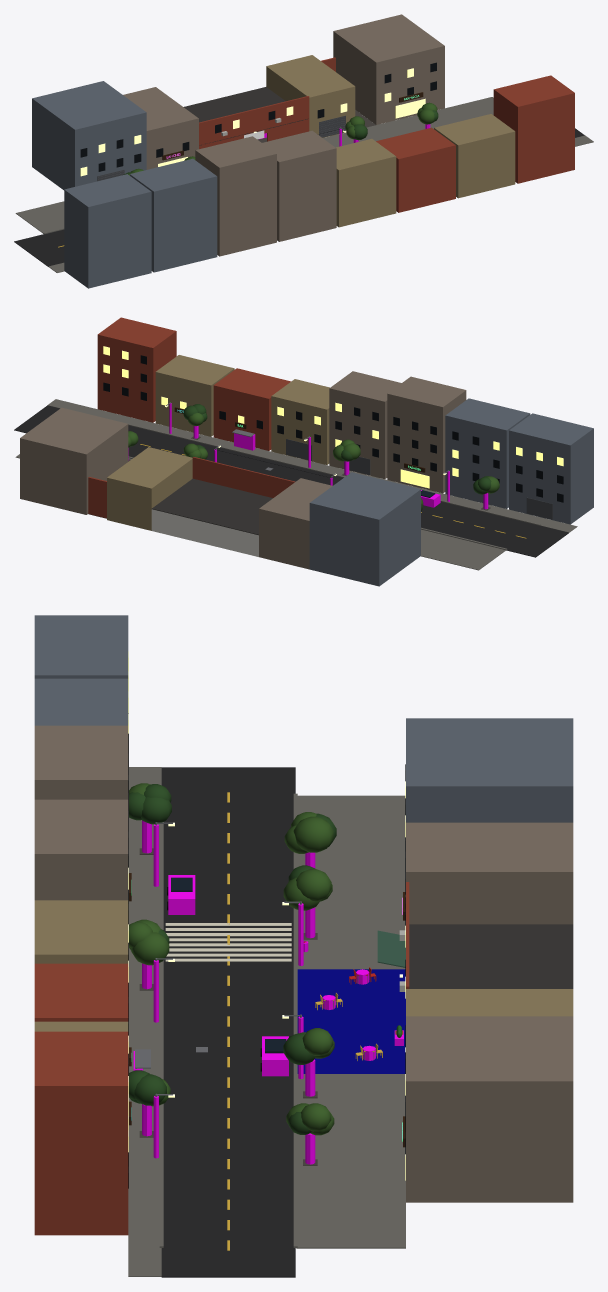
The model's file is suvaco.glb.
3 views of the same model, one above another, from view 1: azimuth 30°, elevation 25°; view 2: azimuth 150°, elevation 25°; view 3: azimuth 270°, elevation 25° (orthographic). The views are drawn at different scales.
Parts seen in each view (by area): view 1: OCC_nb_l2, OCC_bld0, OCC_nb_r2, OCC_bld1, OCC_bld2, OCC_bld7, OCC_bld3, OCC_bld4, OCC_bld6, OCC_bld5, OCC_nb_r1, OCC_nb_l1 (+11 smaller); view 2: OCC_nb_l2, OCC_nb_r2, GROUND_street, OCC_bld0, OCC_bld7, OCC_bld2, OCC_bld1, OCC_bld3, OCC_nb_r1, OCC_nb_l1, OCC_bld5, OCC_bld6 (+14 smaller); view 3: GROUND_street, OCC_nb_r2, OCC_bld7, OCC_nb_l2, FLOOR_sidewalk1, OCC_nb_l1, FLOOR_sidewalk-1, OCC_ceiling, FLOOR_sidewalk_far, OCC_bld3, FLOOR_terrace, OCC_bld2 (+16 smaller).
Part boxes in pixels (<box>): OCC_nb_l2: <box>32,81,146,190</box>; OCC_bld0: <box>64,174,151,288</box>; OCC_nb_r2: <box>333,14,444,124</box>; OCC_bld1: <box>130,158,217,272</box>; OCC_bld2: <box>195,136,276,256</box>; OCC_bld7: <box>493,75,574,183</box>; OCC_bld3: <box>262,130,336,241</box>; OCC_bld4: <box>336,138,396,227</box>; OCC_bld6: <box>434,114,515,198</box>; OCC_bld5: <box>376,127,455,212</box>; OCC_nb_r1: <box>266,55,355,137</box>; OCC_nb_l1: <box>123,87,198,169</box>; OCC_nb_l2: <box>309,472,420,586</box>; OCC_nb_r2: <box>20,407,128,514</box>; GROUND_street: <box>14,405,568,557</box>; OCC_bld0: <box>509,413,593,524</box>; OCC_bld7: <box>97,317,176,422</box>; OCC_bld2: <box>387,376,466,493</box>; OCC_bld1: <box>445,398,530,508</box>; OCC_bld3: <box>329,371,401,479</box>; OCC_nb_r1: <box>107,447,192,530</box>; OCC_nb_l1: <box>259,478,332,569</box>; OCC_bld5: <box>213,368,290,450</box>; OCC_bld6: <box>155,355,234,436</box>; GROUND_street: <box>161,767,295,1277</box>; OCC_nb_r2: <box>406,1016,573,1202</box>; OCC_bld7: <box>34,1031,128,1235</box>; OCC_nb_l2: <box>406,718,573,822</box>; FLOOR_sidewalk1: <box>296,1074,405,1248</box>; OCC_nb_l1: <box>406,822,573,924</box>; FLOOR_sidewalk-1: <box>297,795,405,969</box>; OCC_ceiling: <box>409,924,573,988</box>; FLOOR_sidewalk_far: <box>128,767,161,1276</box>; OCC_bld3: <box>34,799,128,900</box>; FLOOR_terrace: <box>297,969,405,1073</box>; OCC_bld2: <box>34,725,128,799</box>.
Size of the model in its own units: 90 by 14.34 by 40.25.
